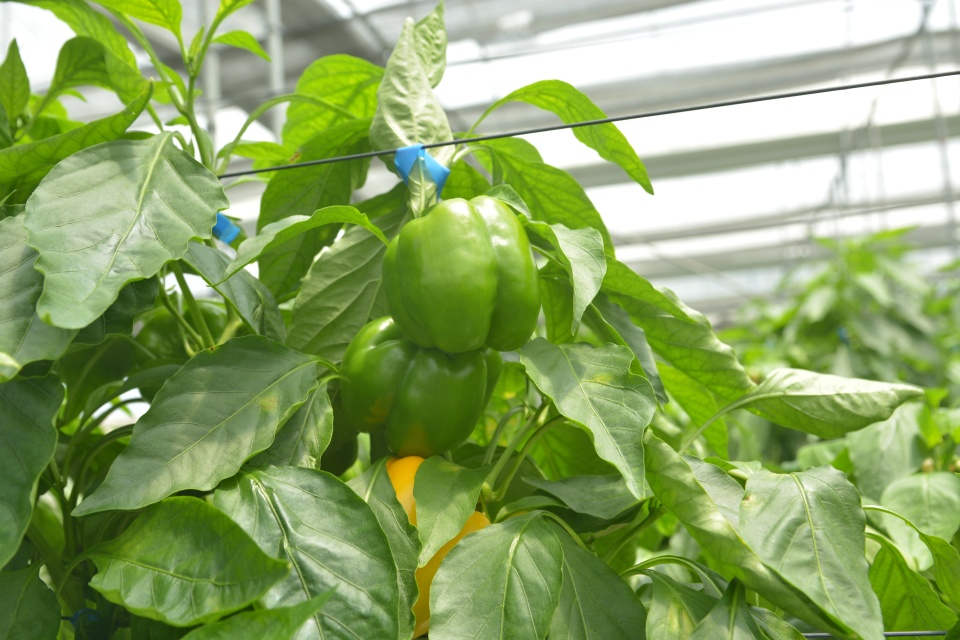fruit: (380, 192, 542, 356), (337, 313, 504, 457), (384, 453, 495, 640), (130, 299, 239, 403)
